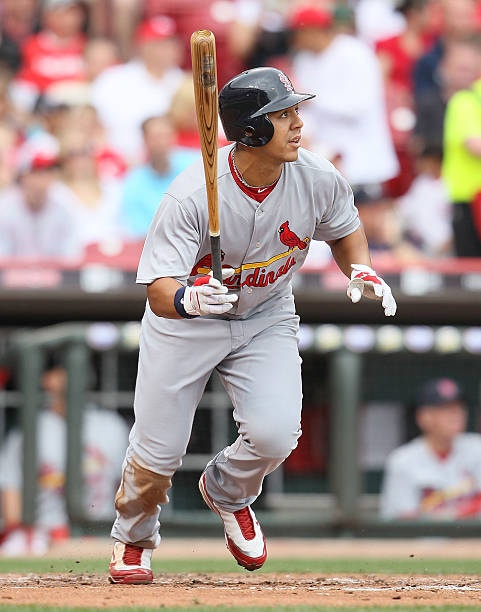bita: (190, 29, 226, 296)
